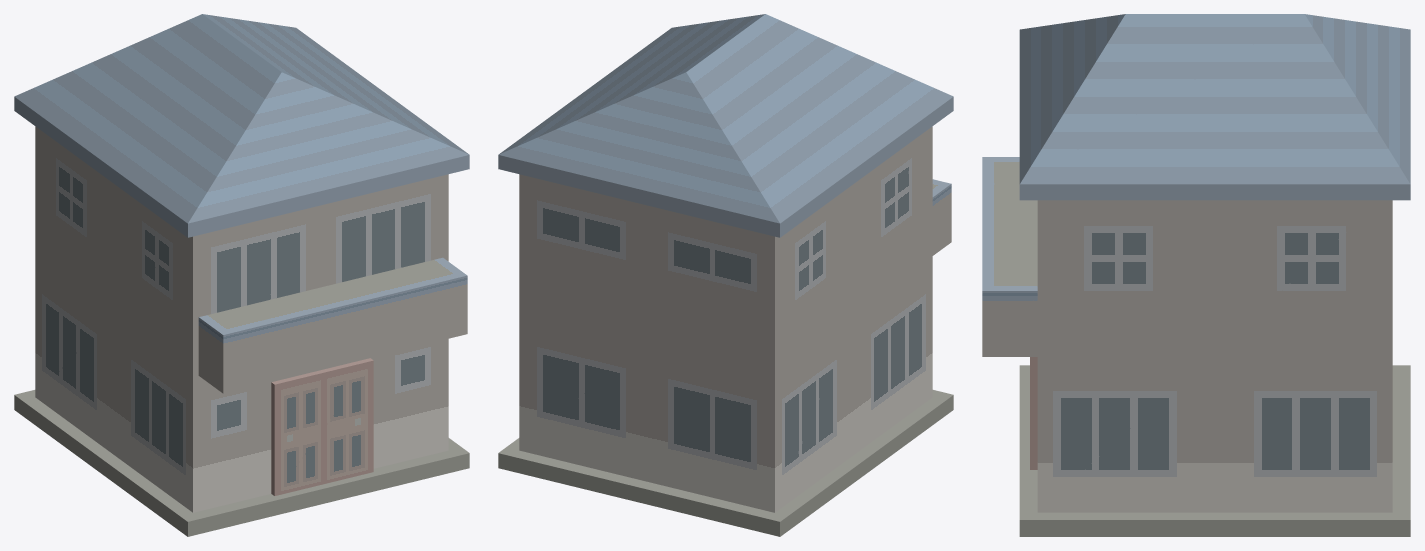
The model's file is 0374_Kato_Residence.glb.
3 renders of one model, left to right at view 1: azimuth 30°, elevation 25°; view 2: azimuth 150°, elevation 25°; view 3: azimuth 270°, elevation 25°, orthographic. The views are drawn at different scales.
Visible parts, largest first — view 1: part_0; view 2: part_0; view 3: part_0.
Boxes of the visible parts, box(x1,y1,x2,y2) form: part_0: box(14, 14, 469, 536); part_0: box(498, 14, 953, 536); part_0: box(982, 14, 1410, 536).
Bounding box in the file's own units: 4.89 × 6.57 × 5.72.
Materials: 1 (1 with a texture image).
